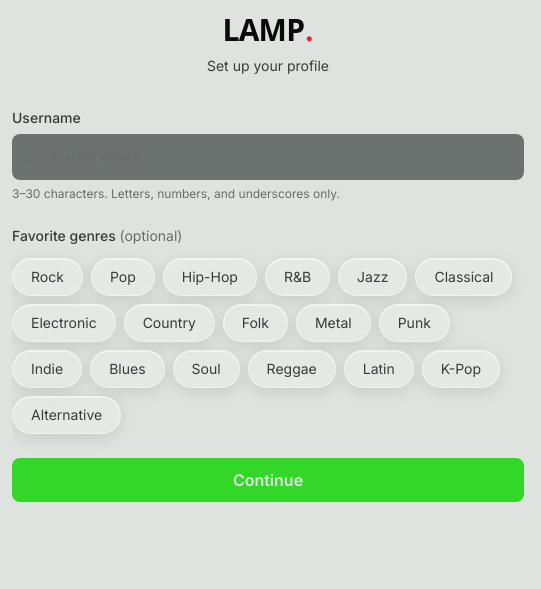
Test: OnboardingForm › shows error when not authenticated
Type "validuser" into the field labelled "Username".
click(268, 157); type("validuser")  # box [12,134,524,180]
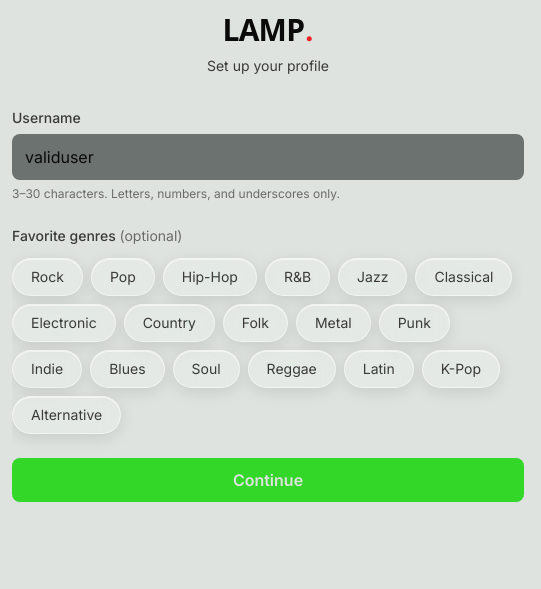
Click the button "Continue".
click(268, 480)  # box [12,458,524,502]
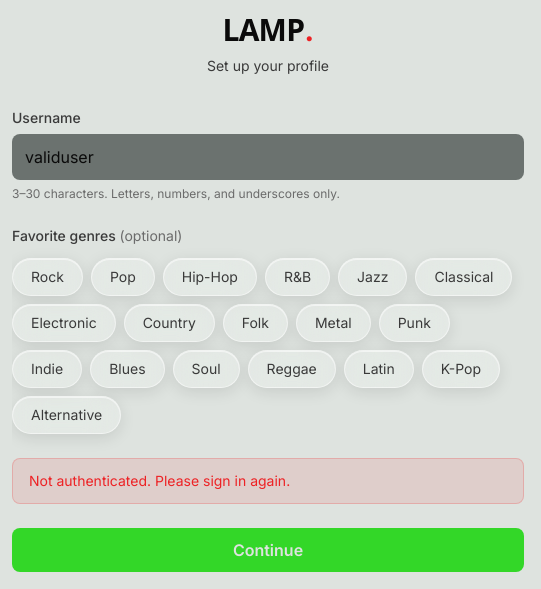
Check: the text "Not authenticated. Please sign in again." is shown, box [29,472,290,489]
